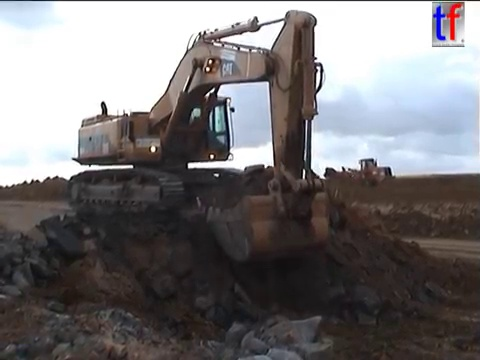excavator: (64, 7, 334, 265)
wheel loader: (321, 156, 397, 191)
